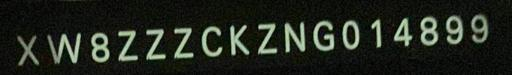letter: (46, 33, 82, 64), (312, 18, 336, 51), (144, 27, 168, 60), (15, 35, 39, 66), (284, 20, 306, 53), (256, 22, 278, 55), (228, 24, 250, 57), (172, 26, 194, 59), (340, 19, 362, 50), (201, 26, 223, 57), (118, 29, 138, 62), (90, 31, 110, 64), (418, 15, 438, 46), (392, 17, 412, 46), (369, 17, 385, 50), (470, 14, 488, 43), (445, 15, 463, 44)
